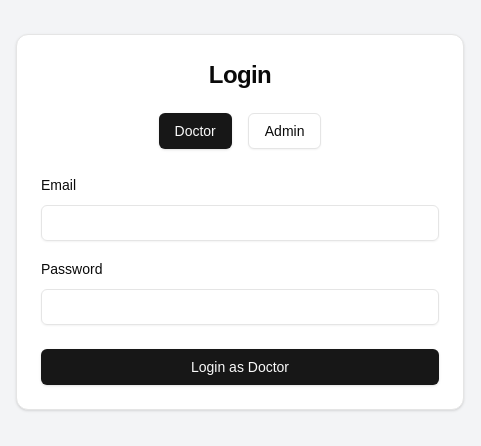
Test: LoginPage Component › failed login
The width and height of the screenshot is (481, 446).
Type "test@example.com" into the field with test id "email-input" at point(240, 223), box [41,205,439,241]
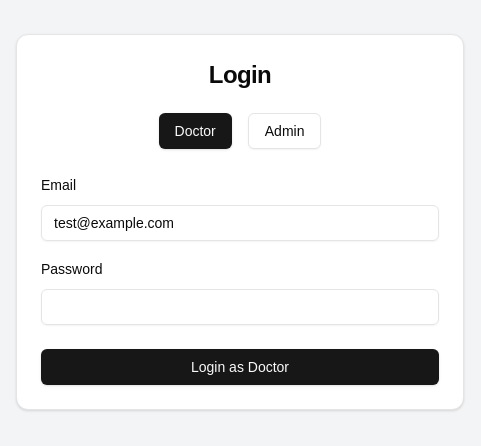
Type "validpassword" into the password field with test id "password-input" at point(240, 307), box [41,289,439,325]
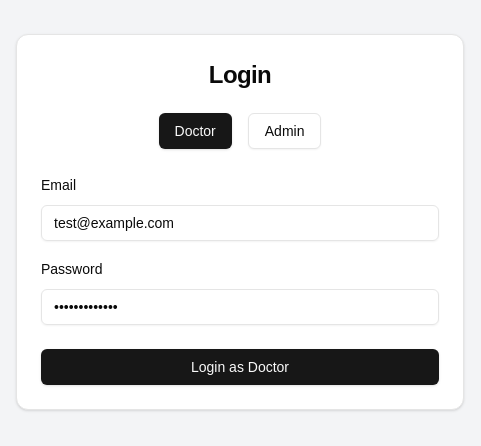
Click the button with test id "login-submit-button" at point(240, 367), box [41,349,439,385]
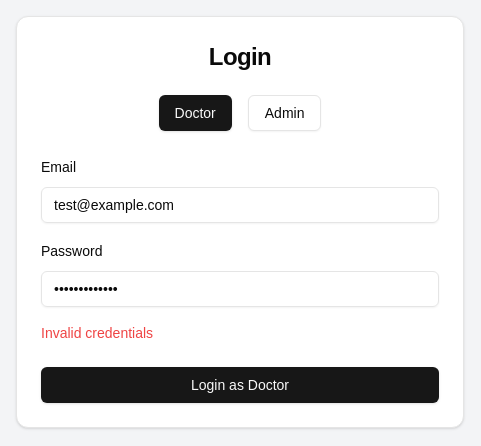
expect the text with test id "error-message" reads "Invalid credentials": met, box [41,325,153,341]
